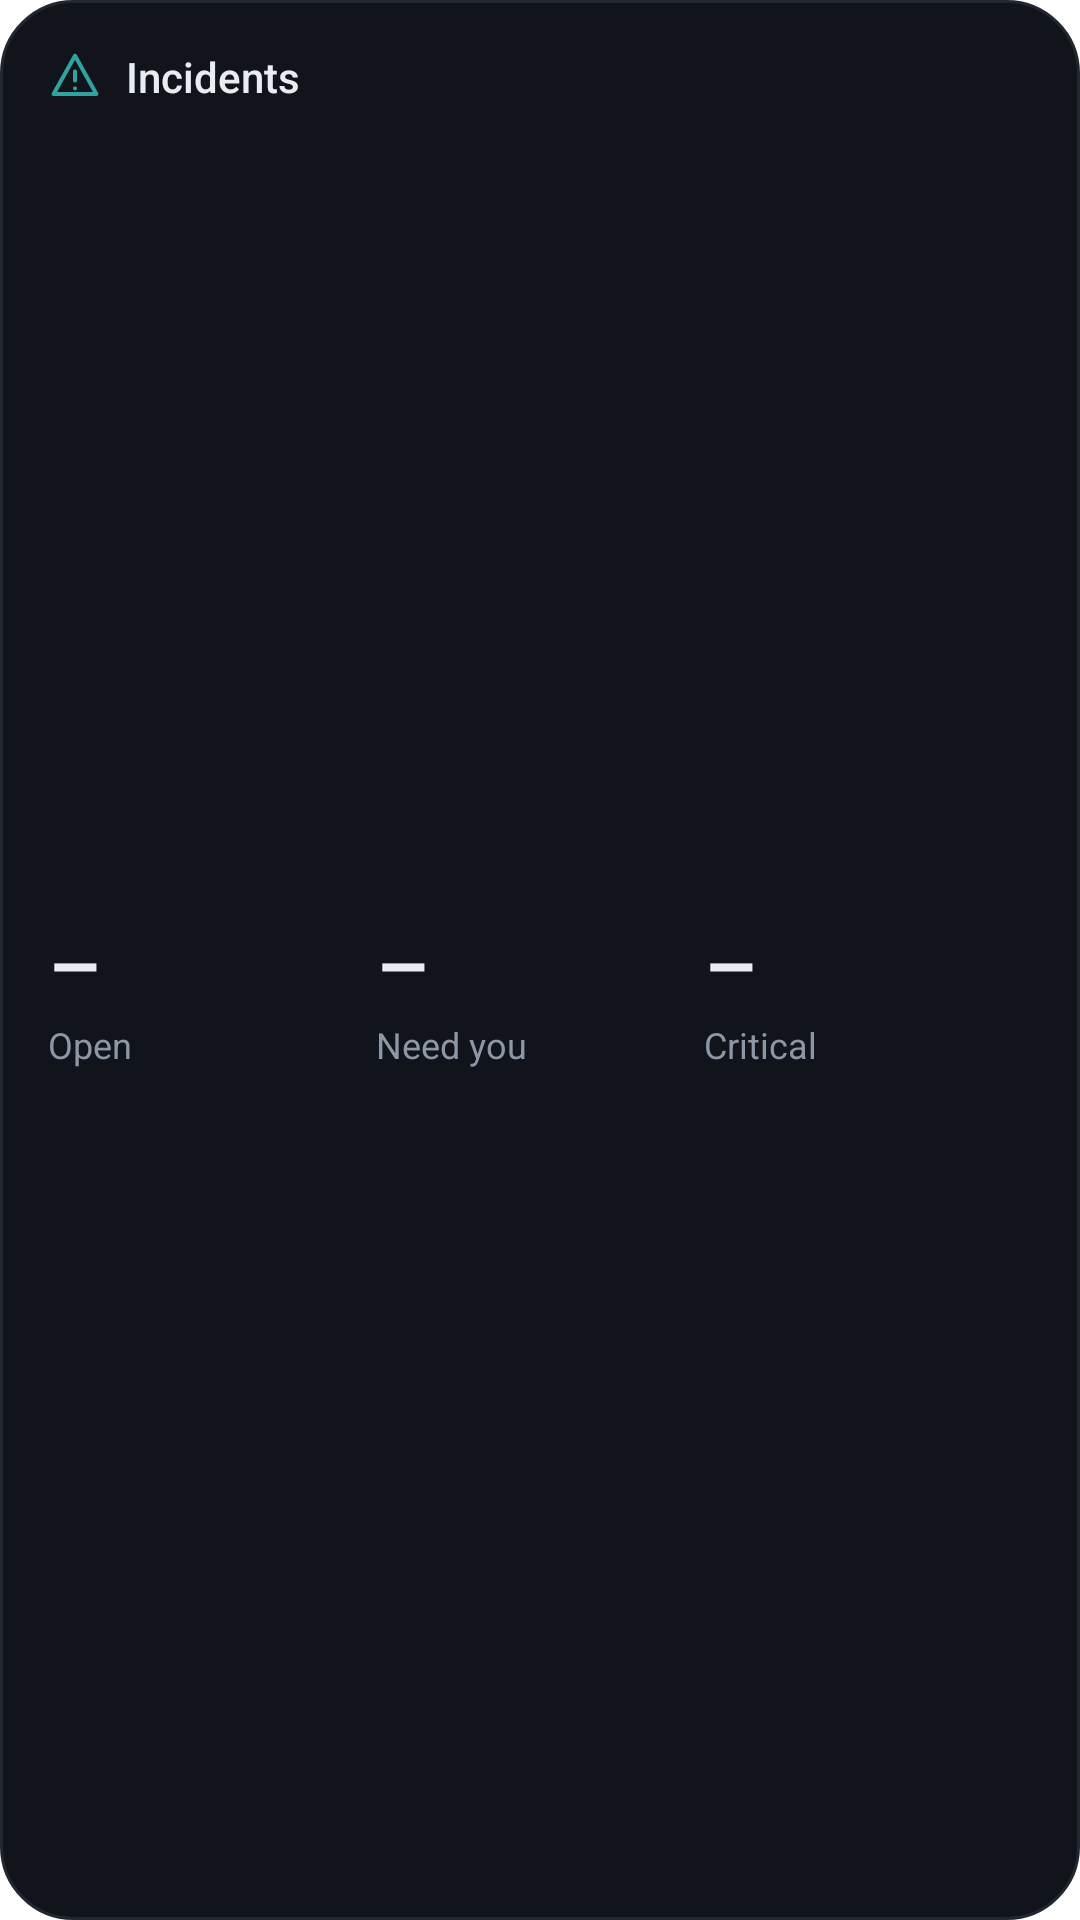

Screen size 1080 x 1920. Icon name, then its center in pixels as (x=x, y=y):
alert: (x=75, y=74)
